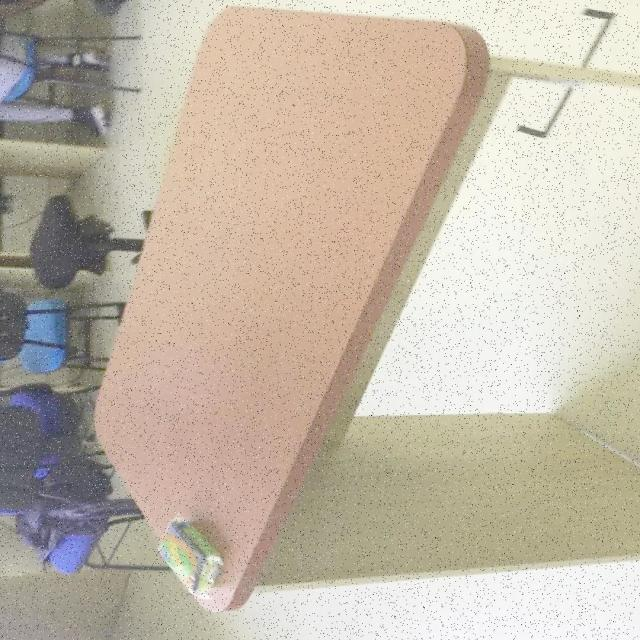Sponge: (92, 5, 492, 610), (157, 512, 226, 596), (20, 297, 71, 374)
